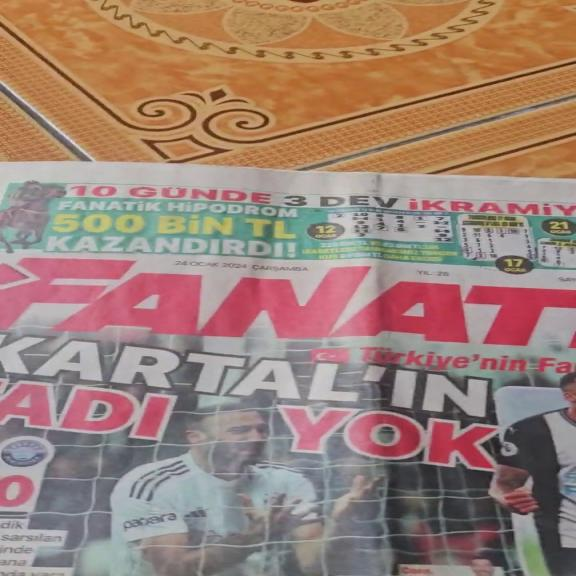Kertas: (6, 177, 574, 576)
